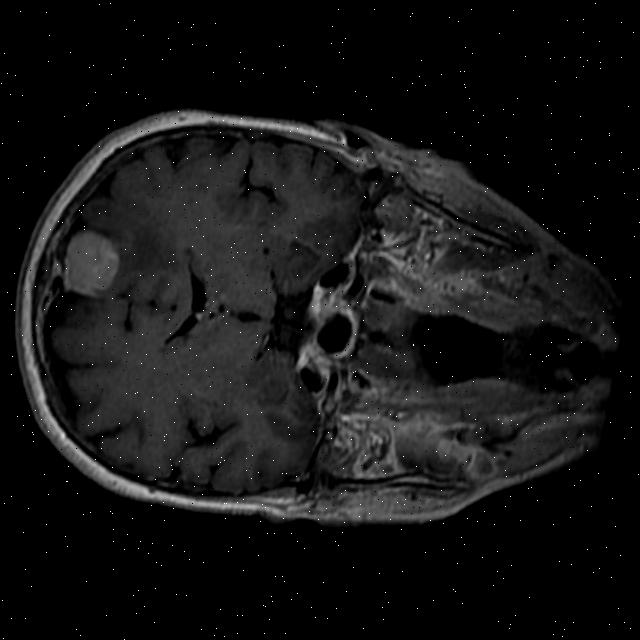Meningioma: (55, 223, 128, 304)
